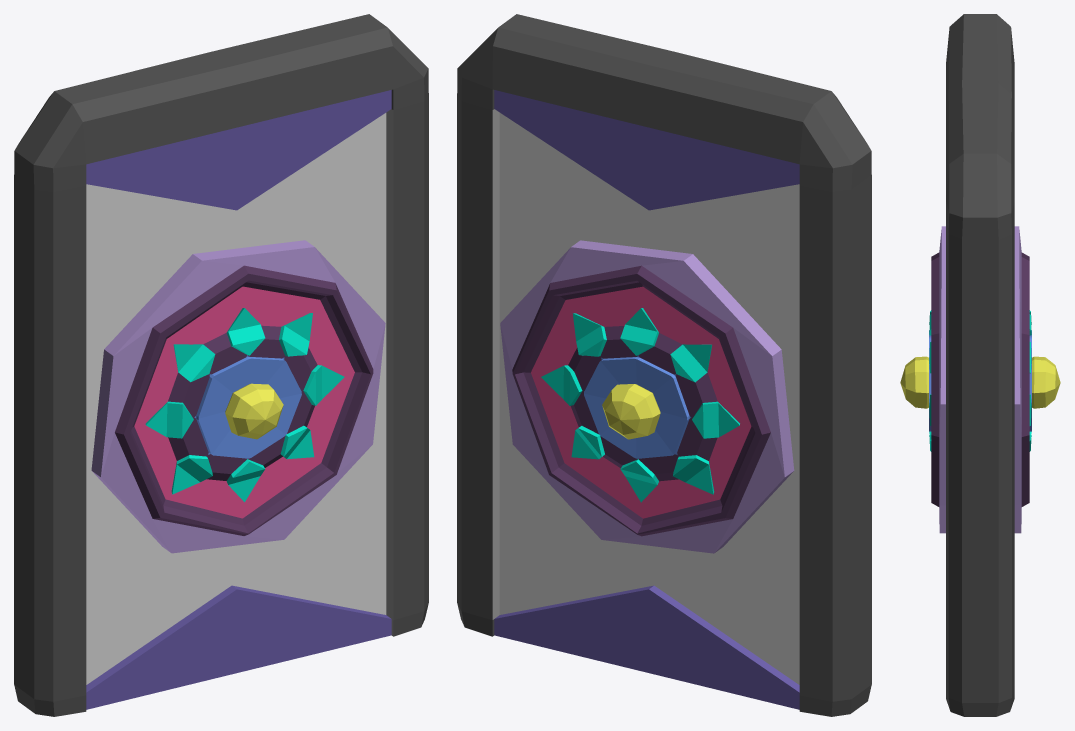
Rendered from Door.fbx.
The picture shows the model from 3 angles, left to right: view 1: azimuth 30°, elevation 25°; view 2: azimuth 150°, elevation 25°; view 3: azimuth 270°, elevation 25°; orthographic projection. The views are drawn at different scales.
Visible parts, largest first — view 1: DoorFrame, DoorWheel1, DoorKnob1; view 2: DoorFrame, DoorWheel2, DoorKnob2; view 3: DoorFrame, DoorWheel2, DoorWheel1, DoorKnob2, DoorKnob1.
Boxes of the visible parts, left/top/right/bottom form: DoorFrame: left=14, top=14, right=428, bottom=716; DoorWheel1: left=91, top=240, right=385, bottom=553; DoorKnob1: left=225, top=383, right=283, bottom=439; DoorFrame: left=457, top=14, right=871, bottom=716; DoorWheel2: left=500, top=240, right=794, bottom=553; DoorKnob2: left=602, top=384, right=660, bottom=439; DoorFrame: left=946, top=14, right=1014, bottom=716; DoorWheel2: left=1014, top=226, right=1031, bottom=533; DoorWheel1: left=929, top=226, right=945, bottom=533; DoorKnob2: left=1032, top=356, right=1060, bottom=408; DoorKnob1: left=900, top=356, right=928, bottom=408.
Size of the model in its own units: 20.94 by 30.46 by 8.1.
